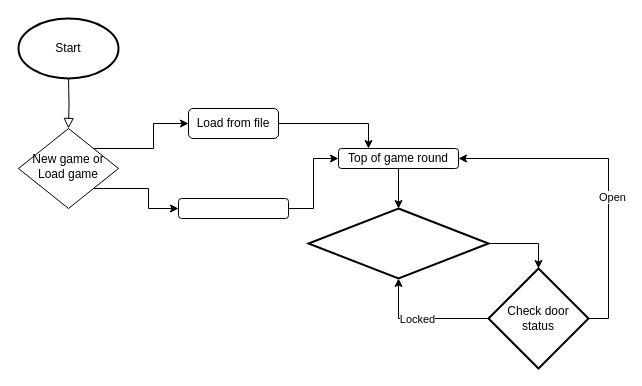
This 642x386 diagram has some shape labels left out. Here are the shapes that lost their labels. From the top down, the centre of each, then its label:
At (x=233, y=208): "Generate Map".
At (x=398, y=243): "Pick Room Direction (Up, RIght, Down, Left)".
